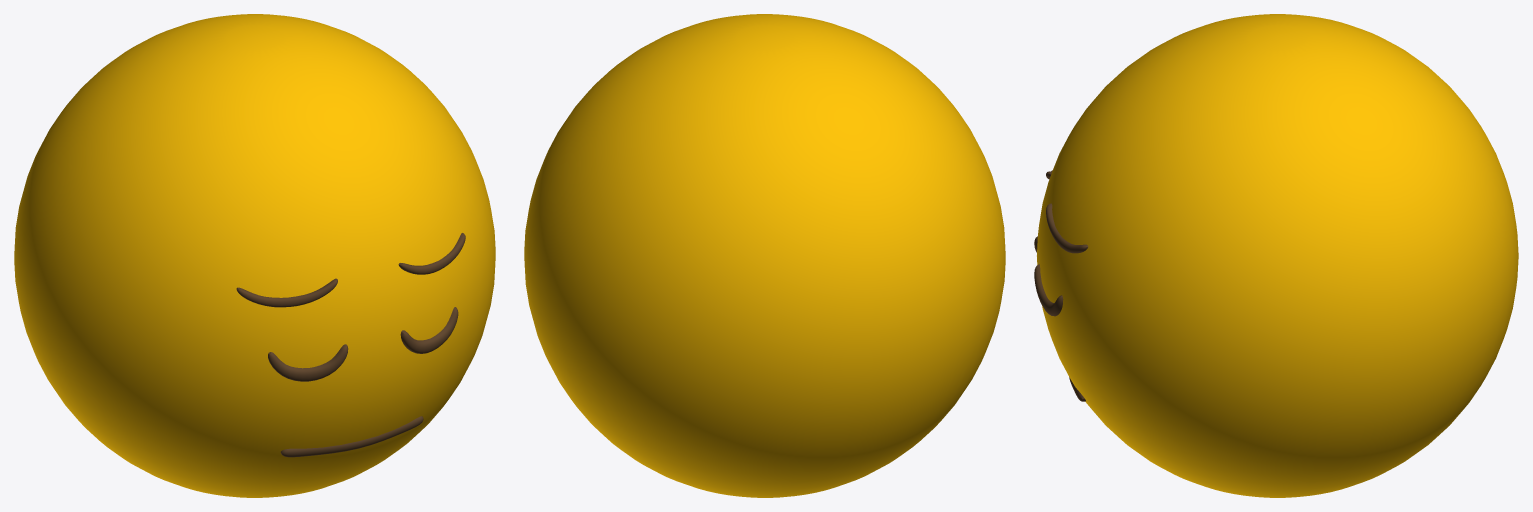
Rendered from Emoticon_56.dae.
The picture shows the model from 3 angles, left to right: view 1: azimuth 30°, elevation 25°; view 2: azimuth 150°, elevation 25°; view 3: azimuth 270°, elevation 25°; orthographic projection.
Parts seen in each view (by area): view 1: Emoticon 56; view 2: Emoticon 56; view 3: Emoticon 56.
Boxes of the visible parts, left/top/right/bottom form: Emoticon 56: left=14, top=14, right=495, bottom=497; Emoticon 56: left=524, top=14, right=1005, bottom=497; Emoticon 56: left=1034, top=14, right=1518, bottom=497.
Size of the model in its own units: 7.11 by 7.15 by 7.18.
Materials: 1 (1 with a texture image).
